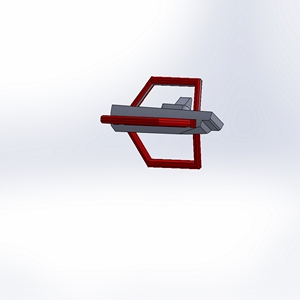submarine: (94, 66, 235, 190)
